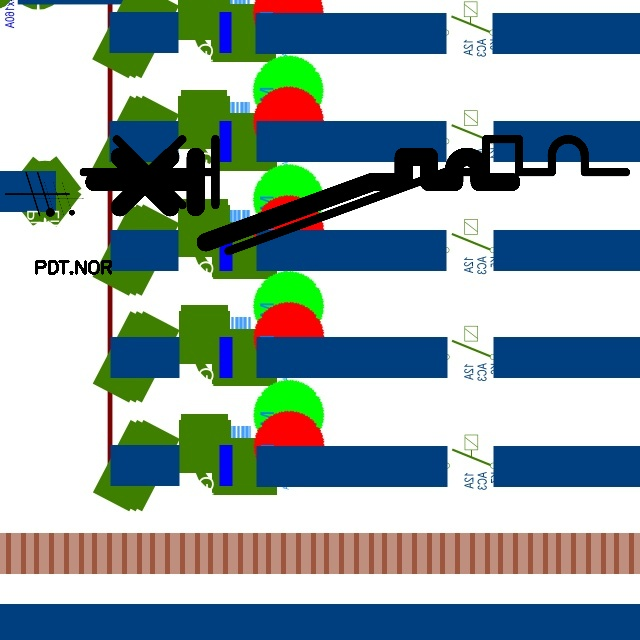interruptor_termomagnetico: (69, 125, 640, 264), (83, 146, 521, 253)
